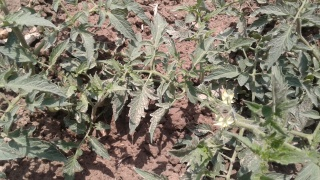tomato flower: (213, 80, 242, 107), (212, 114, 239, 137)
tomato plant: (206, 4, 317, 176), (3, 4, 121, 161)
